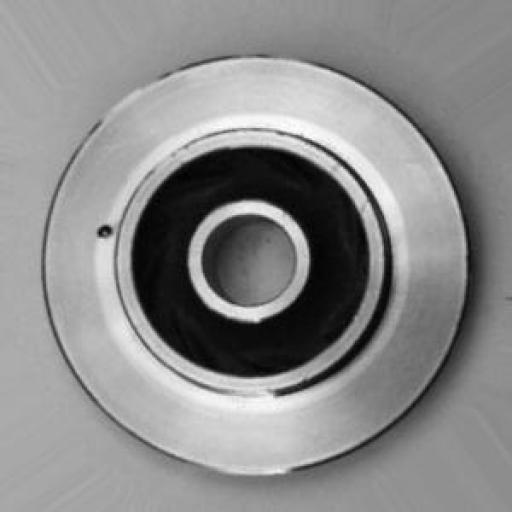defect: (76, 197, 149, 271)
